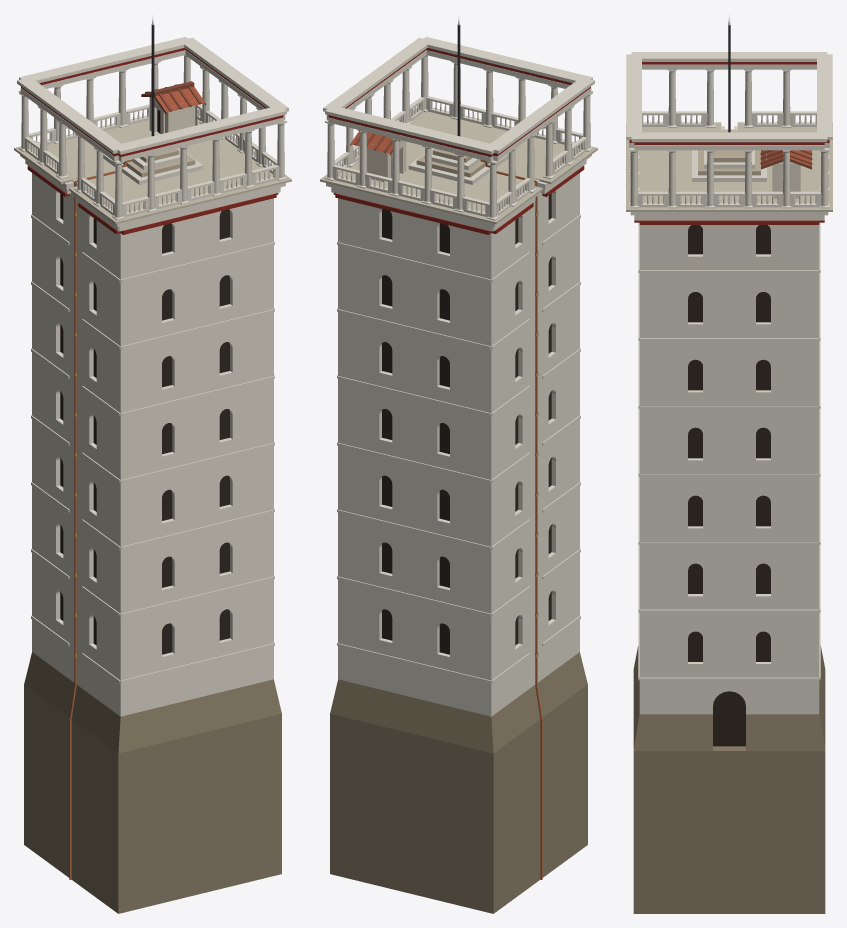
File: ant_tower.glb
The picture shows the model from 3 angles, left to right: view 1: azimuth 30°, elevation 25°; view 2: azimuth 150°, elevation 25°; view 3: azimuth 270°, elevation 25°; orthographic projection.
Parts seen in each view (by area): view 1: ant_tower; view 2: ant_tower; view 3: ant_tower.
Part boxes in pixels (x1,y1,x2,y2): ant_tower: (14, 15, 291, 913); ant_tower: (320, 15, 597, 913); ant_tower: (626, 14, 832, 913).
Bounding box in the file's own units: 13.8 × 63.25 × 13.8.
